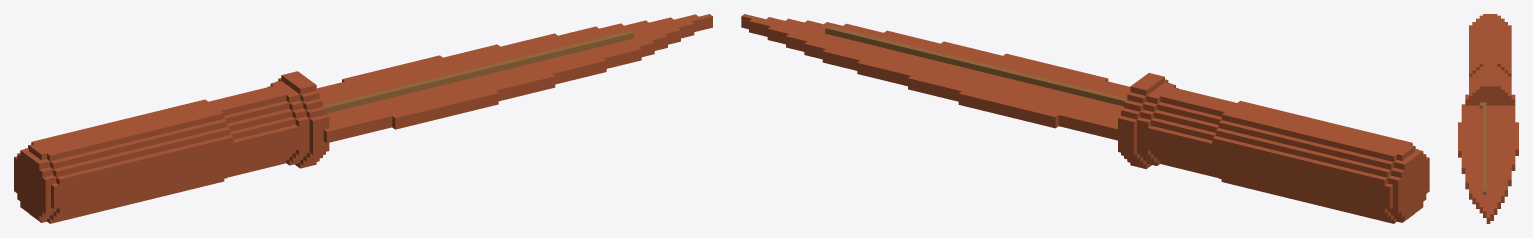
File: copper_knife.glb
The picture shows the model from 3 angles, left to right: view 1: azimuth 30°, elevation 25°; view 2: azimuth 150°, elevation 25°; view 3: azimuth 270°, elevation 25°; orthographic projection. The views are drawn at different scales.
Visible parts, largest first — view 1: copper_knife:compound; view 2: copper_knife:compound; view 3: copper_knife:compound.
Boxes of the visible parts, x1,y1,x2,y2 form: copper_knife:compound: [14, 14, 712, 223]; copper_knife:compound: [741, 14, 1429, 223]; copper_knife:compound: [1458, 14, 1518, 223].
Size of the model in its own units: 0.25 by 0.028 by 0.034.
